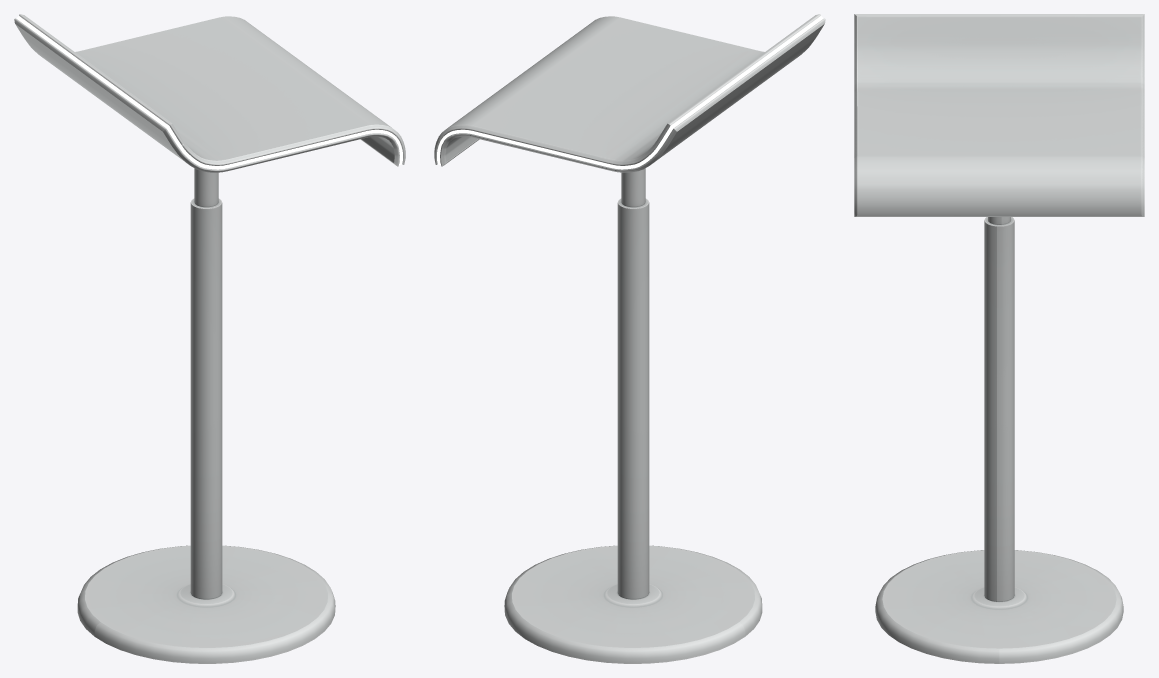
File: SM_Props_StoolBar_A_V3.fbx
3 renders of one model, left to right at view 1: azimuth 30°, elevation 25°; view 2: azimuth 150°, elevation 25°; view 3: azimuth 270°, elevation 25°, orthographic. The views are drawn at different scales.
Parts seen in each view (by area): view 1: SM_Props_StoolBar_A_V3; view 2: SM_Props_StoolBar_A_V3; view 3: SM_Props_StoolBar_A_V3.
Part boxes in pixels (x1,y1,x2,y2): SM_Props_StoolBar_A_V3: [14, 14, 405, 663]; SM_Props_StoolBar_A_V3: [434, 14, 825, 663]; SM_Props_StoolBar_A_V3: [854, 14, 1144, 663].
Bounding box in the file's own units: 32.68 × 35.23 × 73.04.
Materials: 1 (1 with a texture image).
